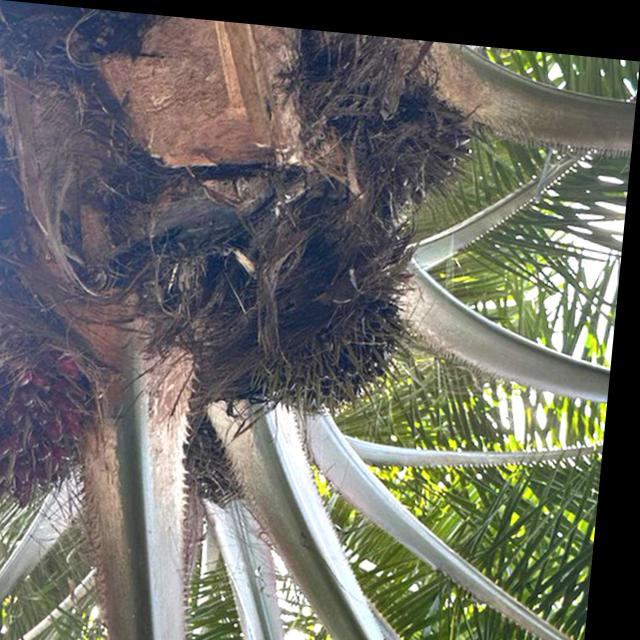unripe: (213, 225, 431, 430), (0, 272, 129, 529), (317, 62, 484, 237)
